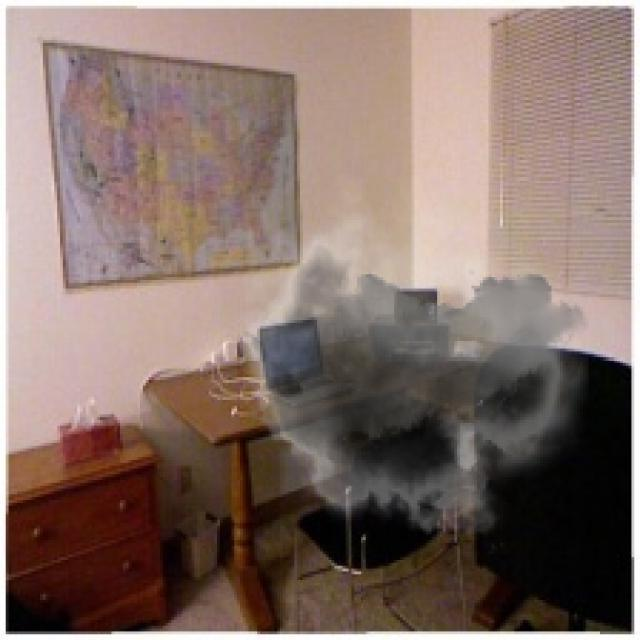Smoke: (220, 172, 589, 554)
